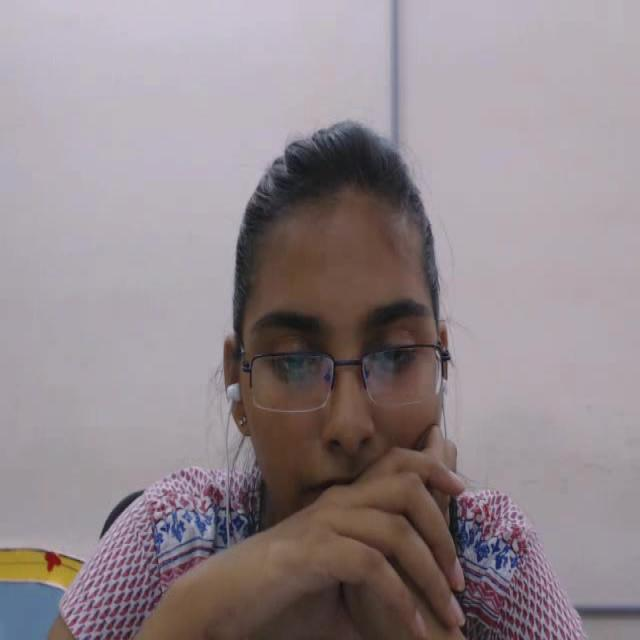Bored: (213, 90, 472, 572)
